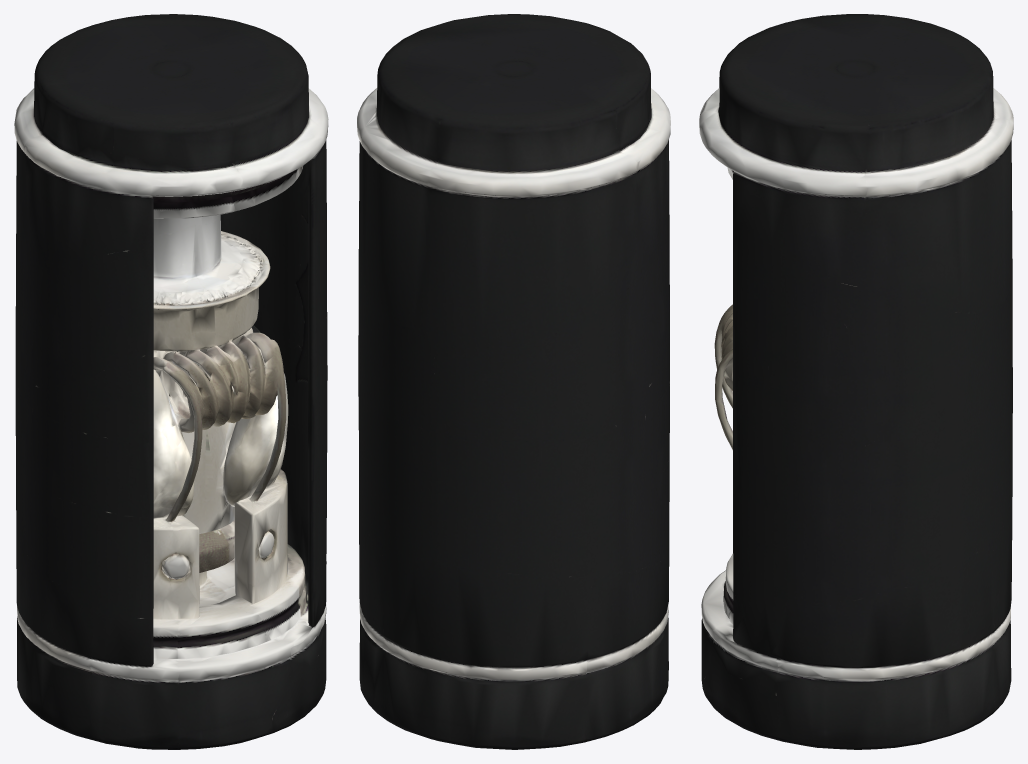
Rendered from coilTank.glb.
3 renders of one model, left to right at view 1: azimuth 30°, elevation 25°; view 2: azimuth 150°, elevation 25°; view 3: azimuth 270°, elevation 25°, orthographic.
Parts seen in each view (by area): view 1: mesh_node; view 2: mesh_node; view 3: mesh_node.
Part boxes in pixels (x1=…): mesh_node: x1=14, y1=14, x2=328, y2=749; mesh_node: x1=357, y1=14, x2=670, y2=749; mesh_node: x1=699, y1=14, x2=1013, y2=749.
Size of the model in its own units: 0.8759 by 1.9 by 0.8759.
Materials: 1 (1 with a texture image).
